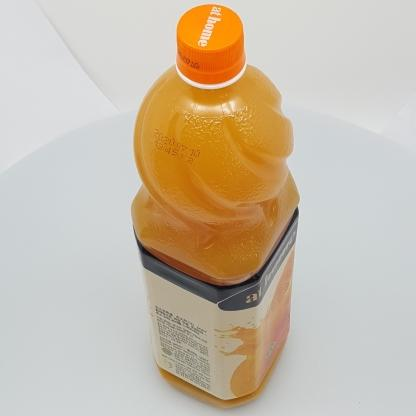-------1-5L: (131, 4, 300, 409)
